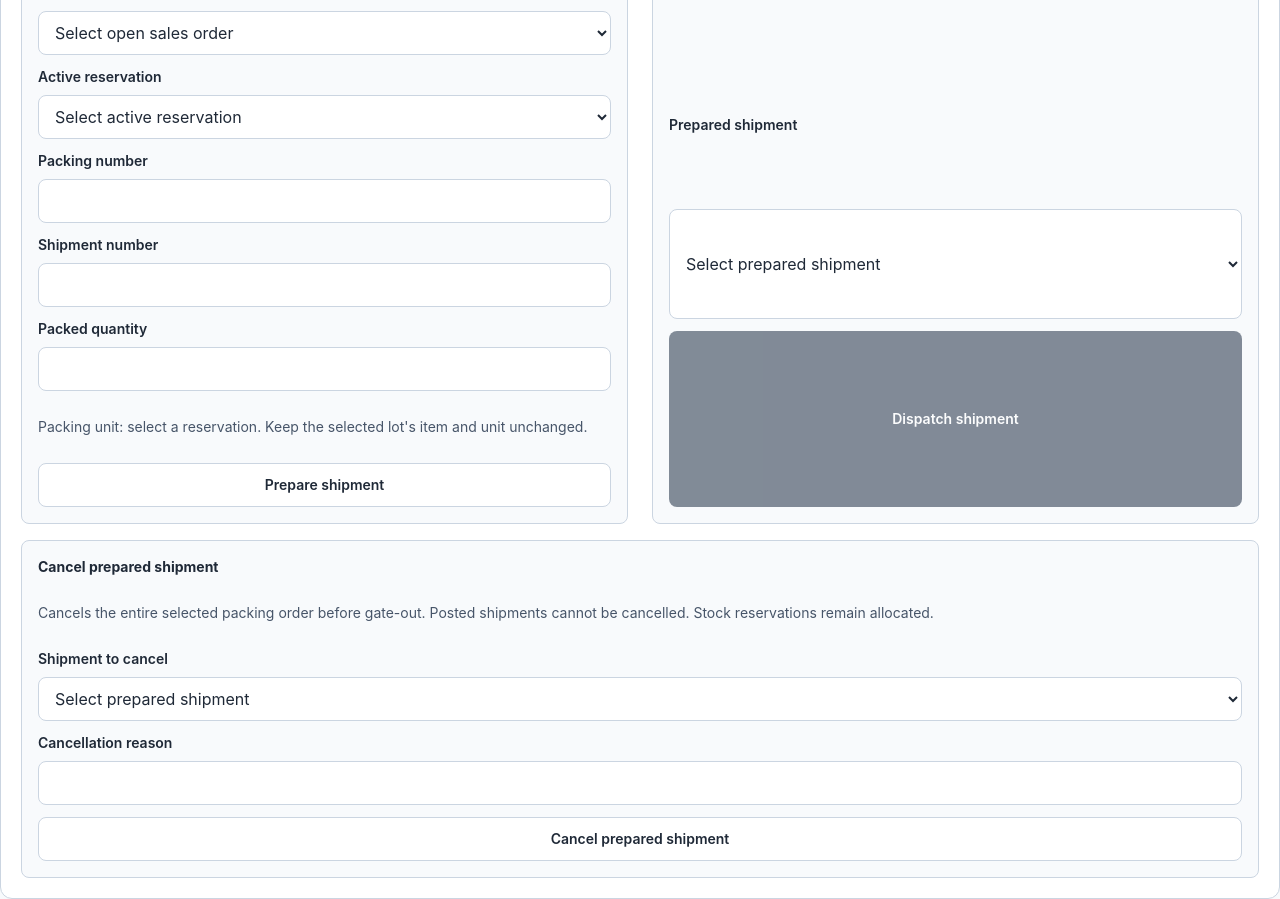
Test: DispatchPanel › cancels only the selected prepared shipment after server confirmation with its revision and reason
The width and height of the screenshot is (1280, 899).
(page scrolled)
Select "SAMPLE-SHIP" in the dropdown labelled "Shipment to cancel". click: point(640, 699)
box: [38,677,1242,721]
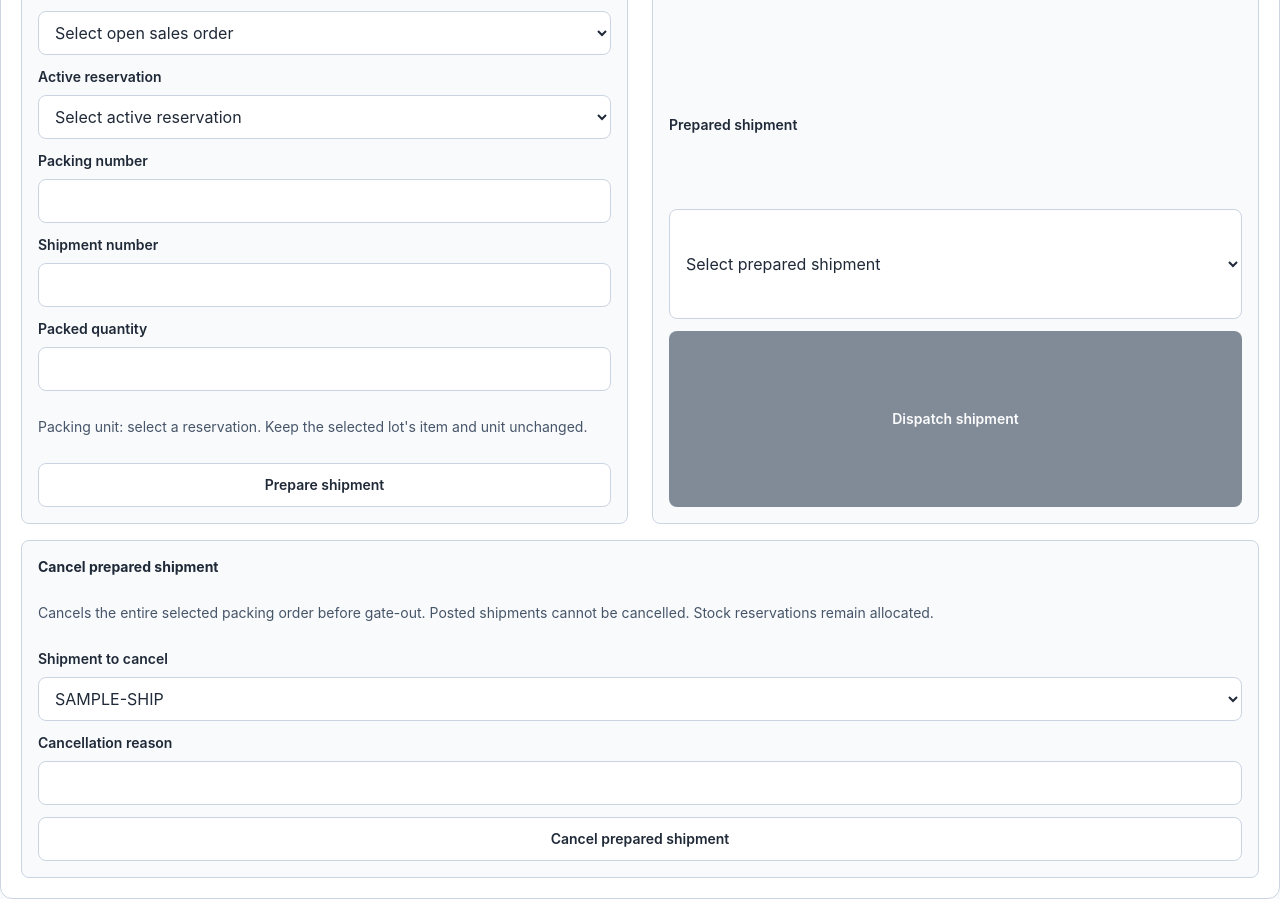
Type "SAMPLE NCR containment" into the field labelled "Cancellation reason". click: point(640, 783)
box: [38,761,1242,805]
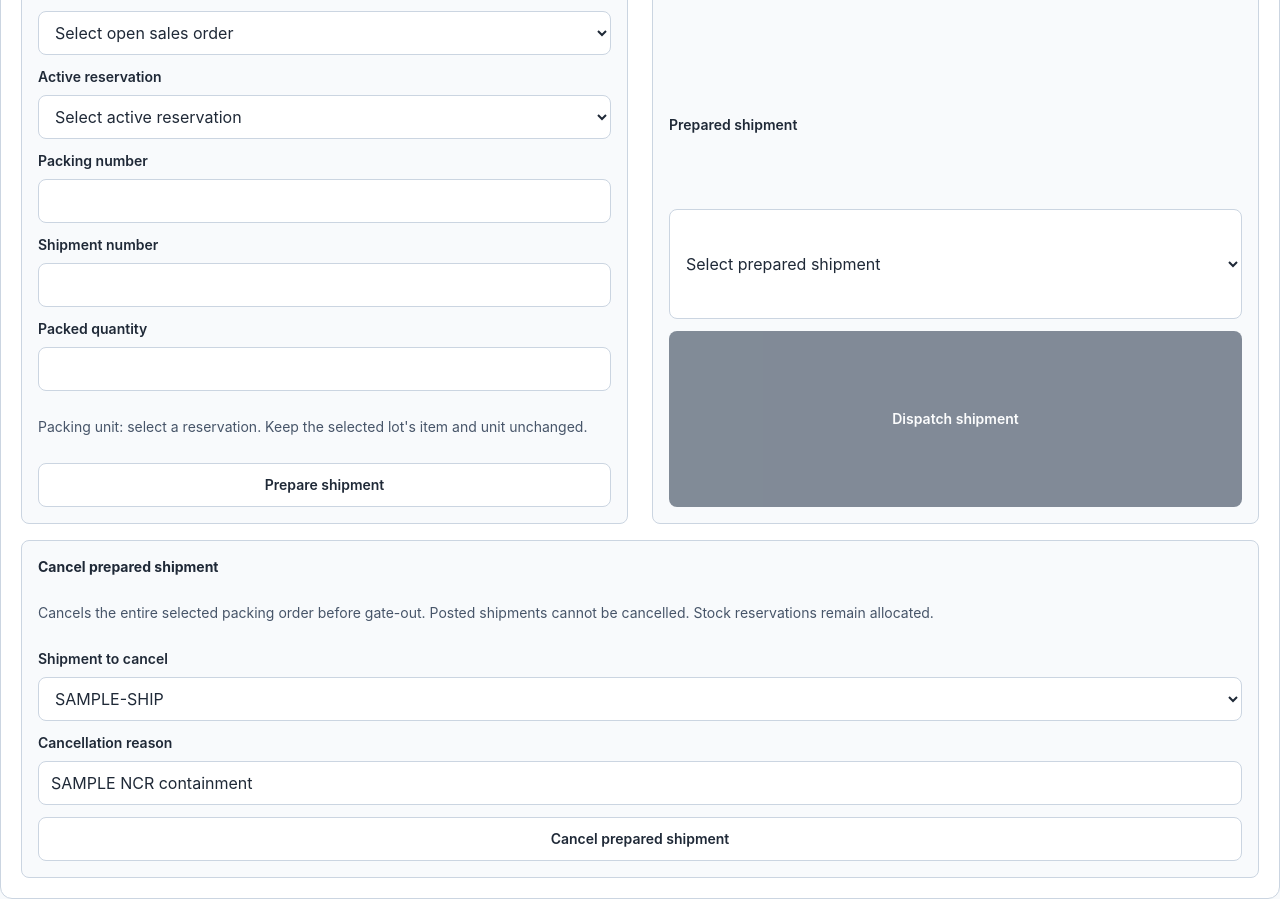
Submit the form "Cancel prepared shipment", box [21,540,1259,878]
(page scrolled)
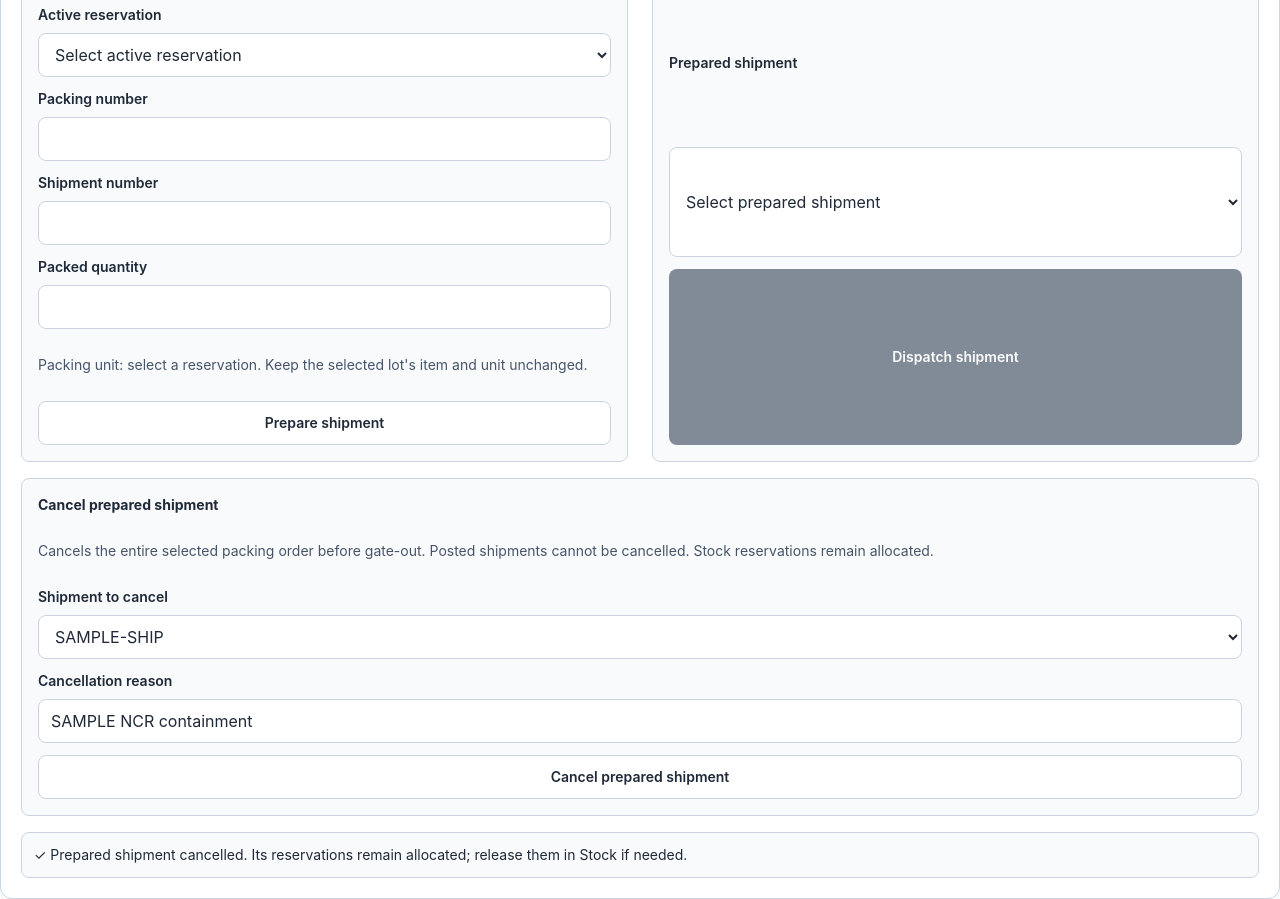
Expected: the message shows "Prepared shipment cancelled. Its reservations remain allocated", [50,846,687,863]
